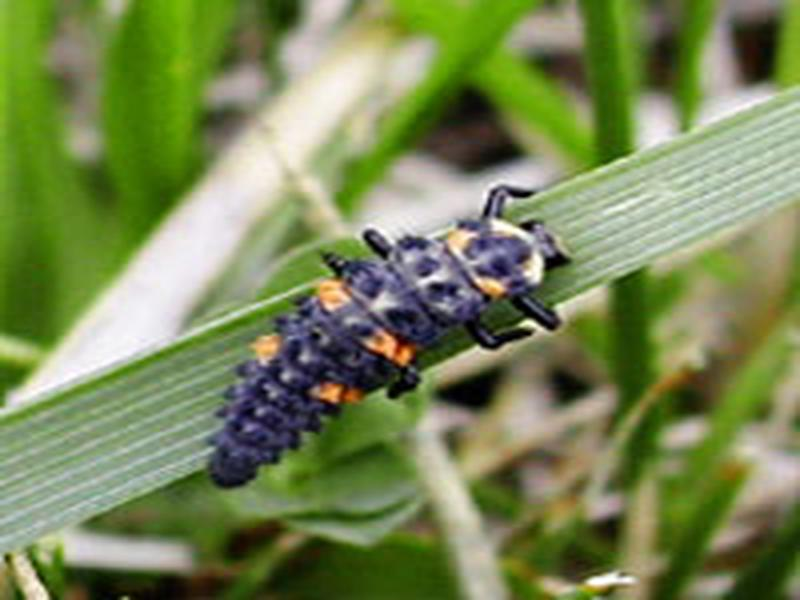Spiny_beetle: (159, 196, 581, 508)
